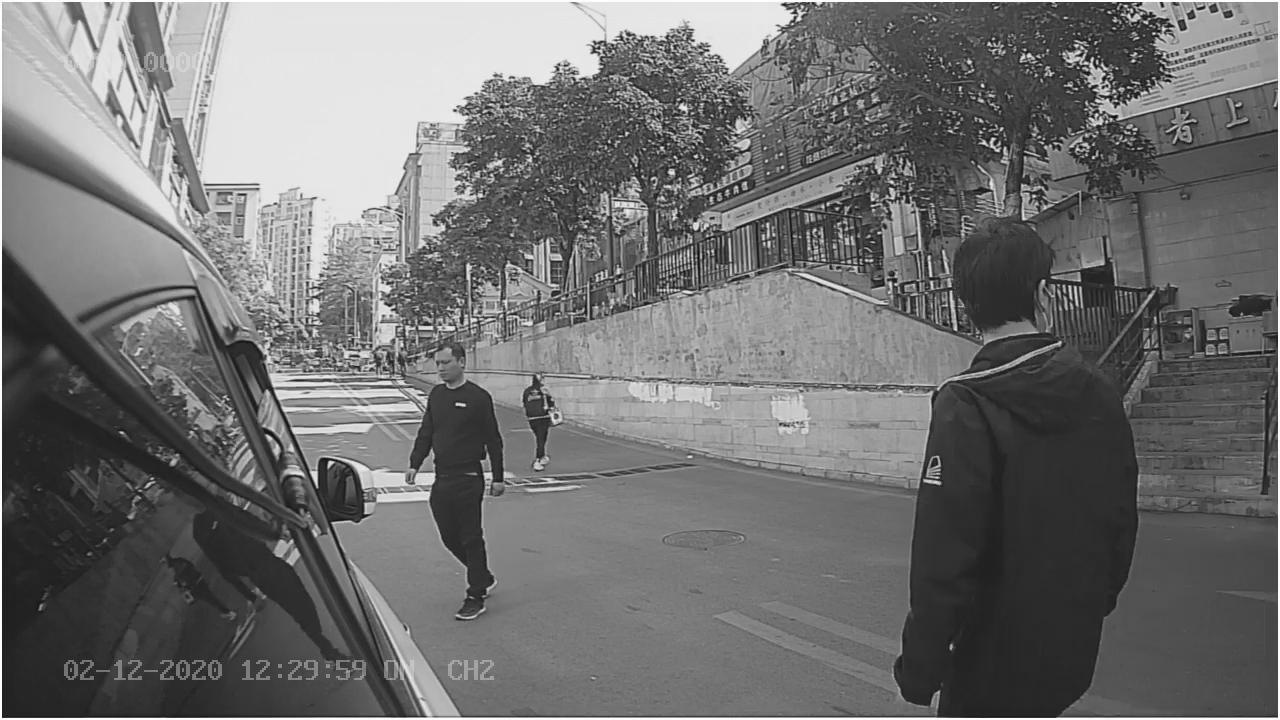person: (902, 212, 1143, 524), (400, 329, 517, 620)
